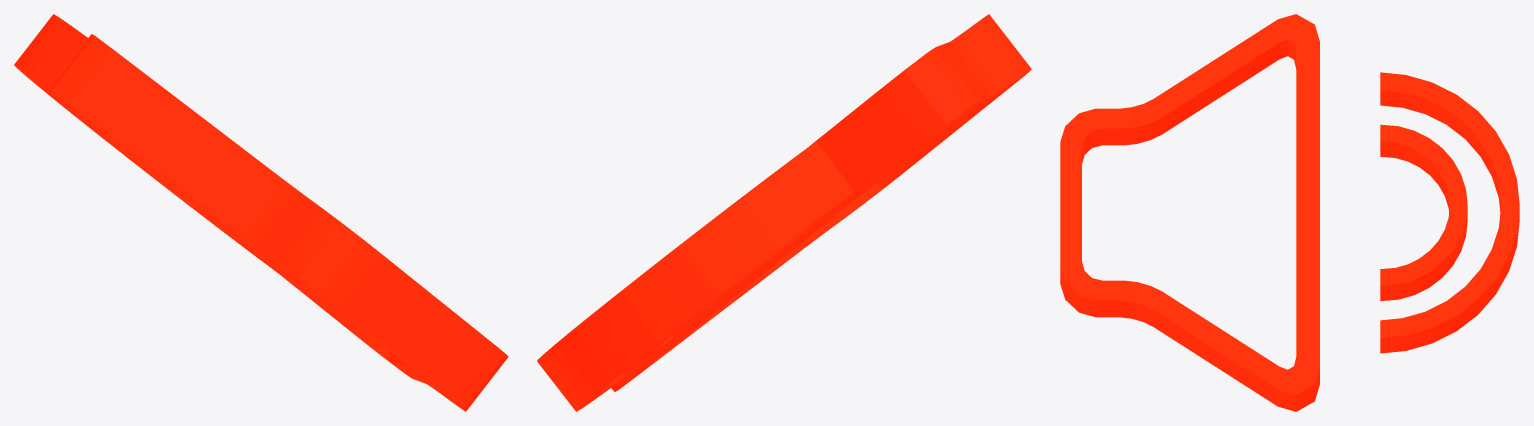
The model's file is mute_on.glb.
3 renders of one model, left to right at view 1: azimuth 30°, elevation 25°; view 2: azimuth 150°, elevation 25°; view 3: azimuth 270°, elevation 25°, orthographic. The views are drawn at different scales.
Parts seen in each view (by area): view 1: mute_on; view 2: mute_on; view 3: mute_on.
Boxes of the visible parts, x1=… form: mute_on: x1=14, y1=14, x2=508, y2=411; mute_on: x1=537, y1=14, x2=1031, y2=411; mute_on: x1=1060, y1=14, x2=1519, y2=411.
Bounding box in the file's own units: 0.0121 × 0.0121 × 0.0172.
